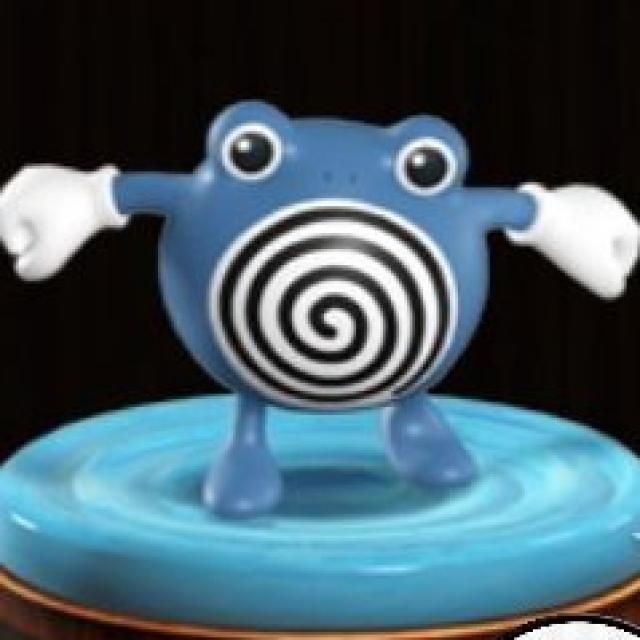Poliwhirl: (25, 98, 640, 455)
